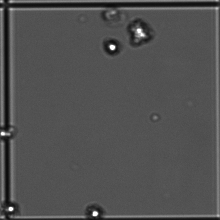Dead Cell: (100, 7, 125, 25)
Living Cell: (124, 17, 157, 47), (81, 202, 108, 218), (99, 38, 122, 56), (1, 122, 19, 142), (1, 198, 21, 216)
